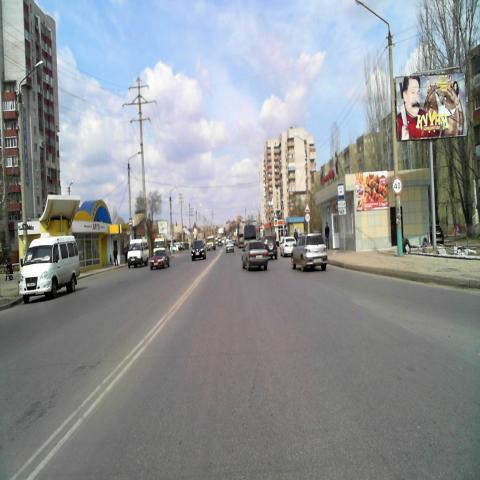7_5: (336, 184, 346, 200)
